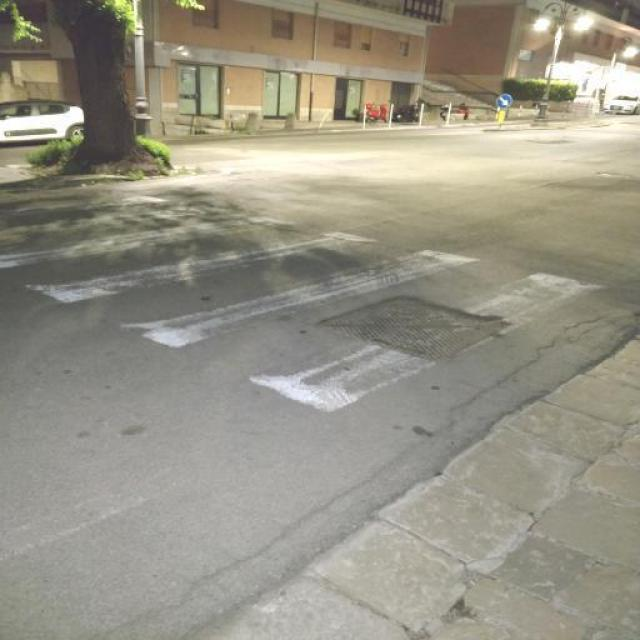crosswalk: (0, 184, 613, 423)
